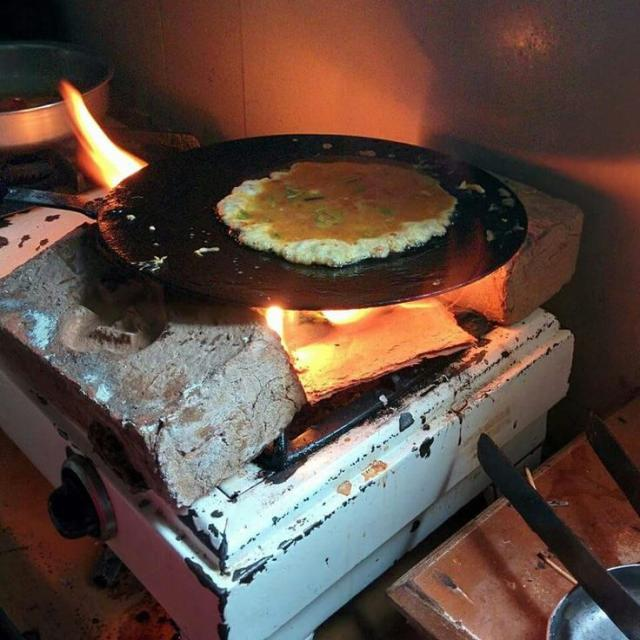fire: (59, 80, 146, 191)
